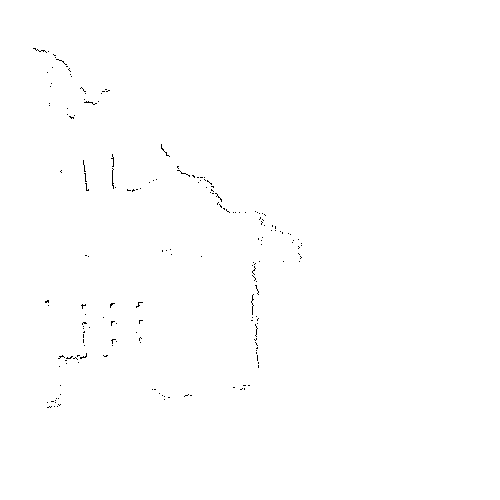pallet: (81, 302, 143, 347)
